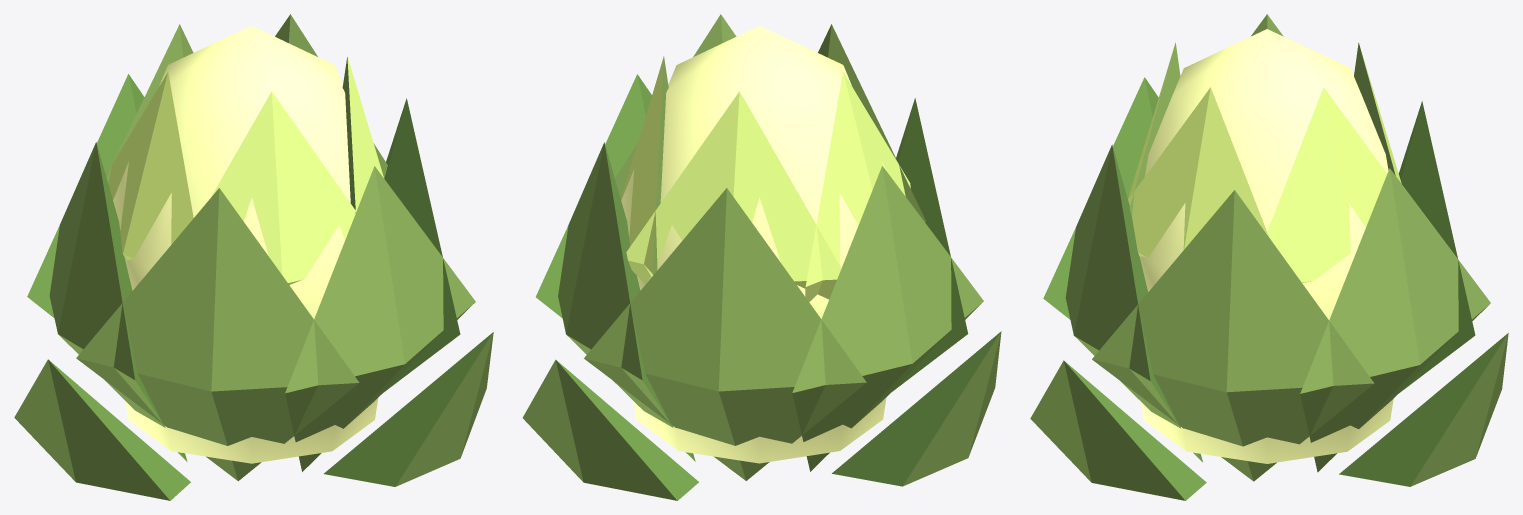
Rendered from fukinotou.glb.
3 views of the same model, side by side, from view 1: azimuth 30°, elevation 25°; view 2: azimuth 150°, elevation 25°; view 3: azimuth 270°, elevation 25° (orthographic).
Parts seen in each view (by area): view 1: fukinotou; view 2: fukinotou; view 3: fukinotou.
Boxes of the visible parts, box(x1,y1,x2,y2) form: fukinotou: box(14, 14, 493, 500); fukinotou: box(522, 14, 1001, 500); fukinotou: box(1030, 14, 1508, 500).
Size of the model in its own units: 0.6 by 0.6 by 0.6.
